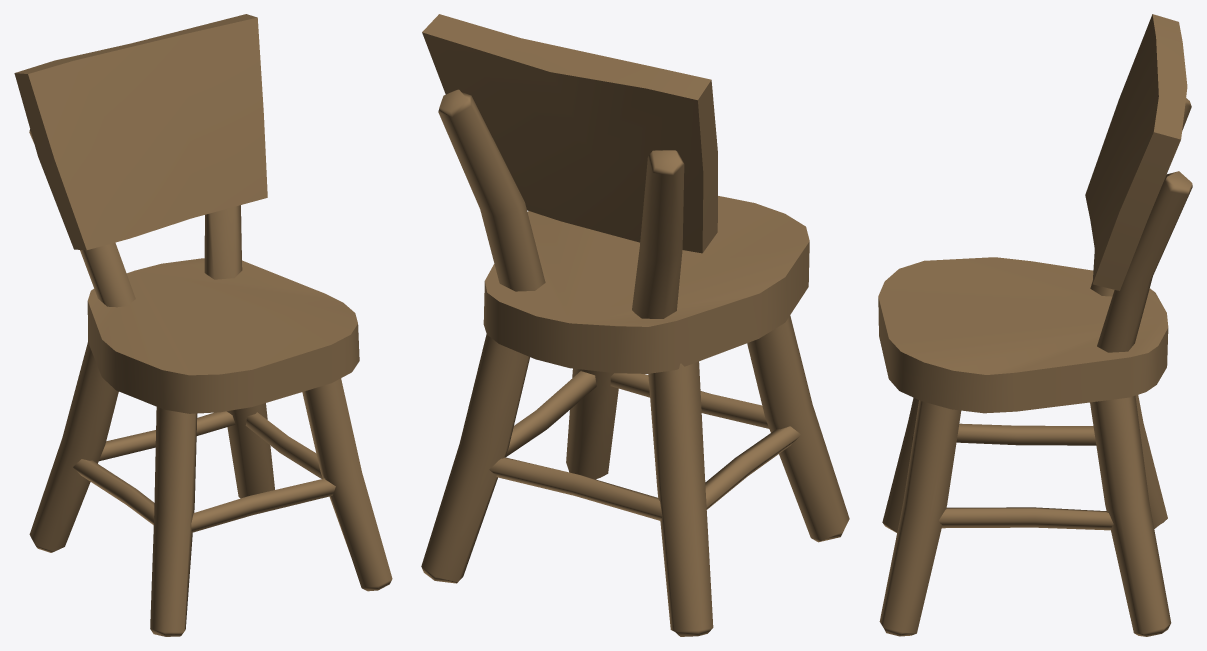
Rendered from stul_Lv2.fbx.
3 renders of one model, left to right at view 1: azimuth 30°, elevation 25°; view 2: azimuth 150°, elevation 25°; view 3: azimuth 270°, elevation 25°, orthographic. The views are drawn at different scales.
Visible parts, largest first — view 1: stul; view 2: stul; view 3: stul.
Boxes of the visible parts, <box> form: stul: <box>14,14,392,636</box>; stul: <box>421,14,849,636</box>; stul: <box>878,14,1192,636</box>.
Bounding box in the file's own units: 40.06 × 75.7 × 42.63.
